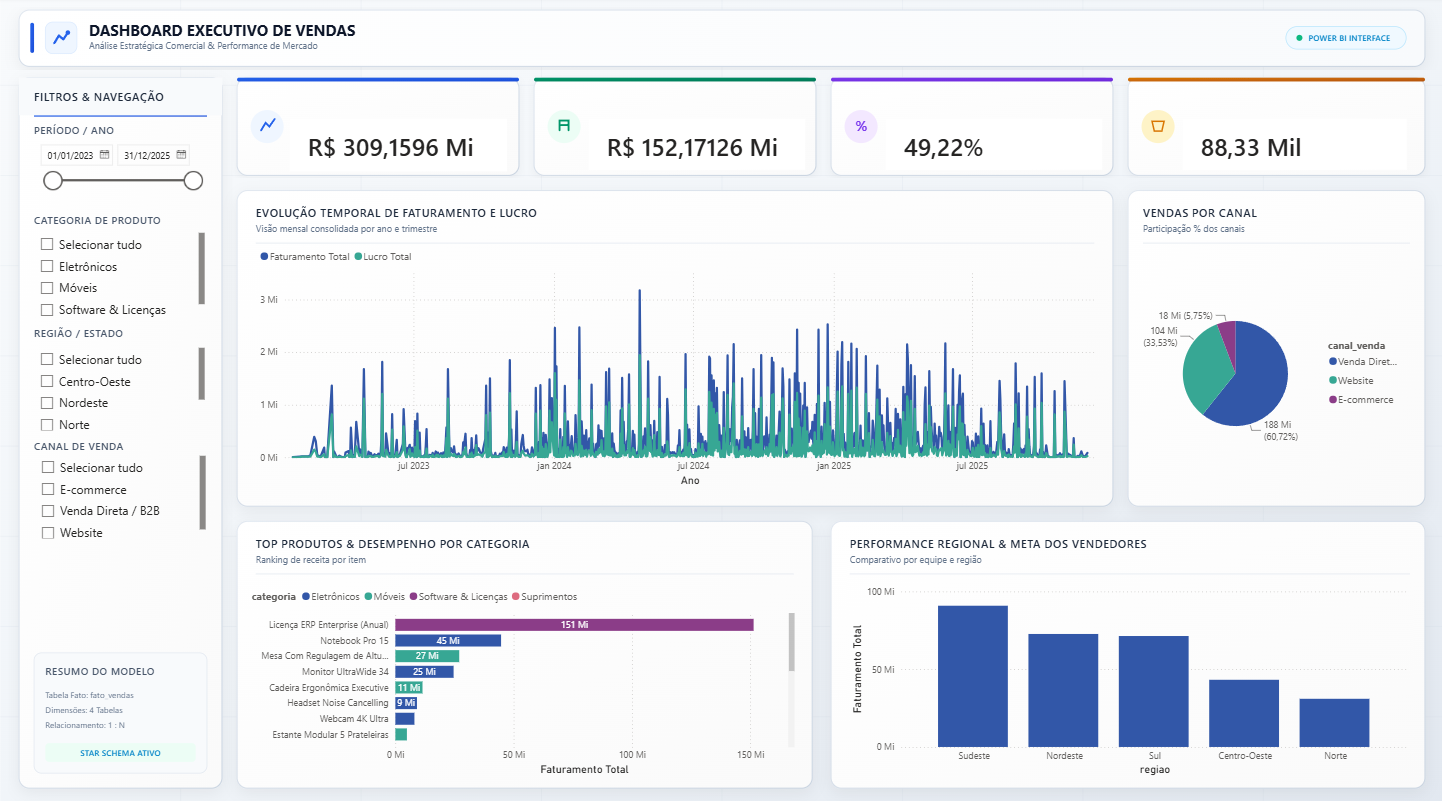

The dashboard page shown, as its layout file describes it:
{"tool":"powerbi","page":{"name":"Página 1","canvas":[1920,1080],"ordinal":0},"visuals":[{"type":"cardVisual","fields":{"Data":["MEDIDAS DAX.Faturamento Total"]},"box":[380.8,157.5,299.2,80],"z":0},{"type":"cardVisual","fields":{"Data":["MEDIDAS DAX.Lucro Total"]},"box":[777.5,157.5,298.8,78.8],"z":1000},{"type":"cardVisual","fields":{"Data":["MEDIDAS DAX.Margem %"]},"box":[1173.8,157.5,298.8,78.8],"z":2000},{"type":"cardVisual","fields":{"Data":["MEDIDAS DAX.Ticket Médio"]},"box":[1568.8,157.5,308.8,78.8],"z":3000},{"type":"lineChart","fields":{"Category":["dim_calendario.data.Variation.Hierarquia de datas.Ano","dim_calendario.data.Variation.Hierarquia de datas.Trimestre","dim_calendario.data.Variation.Hierarquia de datas.Mês","dim_calendario.data.Variation.Hierarquia de datas.Dia"],"Y":["MEDIDAS DAX.Faturamento Total","MEDIDAS DAX.Lucro Total"]},"box":[340.5,324.5,1131.9,331.2],"z":4000},{"type":"pieChart","fields":{"Y":["MEDIDAS DAX.Faturamento Total"],"Category":["fato_vendas.canal_venda"]},"box":[1515,335,362.5,331.2],"z":5000},{"type":"barChart","fields":{"Y":["MEDIDAS DAX.Faturamento Total"],"Category":["dim_produtos.nome_produto"],"Series":["dim_produtos.categoria"]},"box":[329.9,776.7,731.5,263.3],"z":6000},{"type":"clusteredColumnChart","fields":{"Category":["dim_clientes.regiao"],"Y":["MEDIDAS DAX.Faturamento Total"]},"box":[1126.2,776.2,751.2,263.8],"z":7000},{"type":"slicer","fields":{"Values":["dim_calendario.data"]},"box":[41.2,186.2,236.2,91.2],"z":8000},{"type":"slicer","fields":{"Values":["dim_produtos.categoria"]},"box":[41.2,308.8,236.2,127.5],"z":9000},{"type":"slicer","fields":{"Values":["dim_clientes.regiao"]},"box":[41.2,461.2,236.2,120],"z":10000},{"type":"slicer","fields":{"Values":["fato_vendas.canal_venda"]},"box":[42.6,605.2,236.2,120],"z":11000}]}

Visuals, with their boxes in screenshot pixels (x1, y1, x2, y2), scaled from the page's 1920x1080 canvas onto the 1442x801 screenshot:
cardVisual - MEDIDAS DAX.Faturamento Total: {"left": 286, "top": 117, "right": 511, "bottom": 176}
cardVisual - MEDIDAS DAX.Lucro Total: {"left": 584, "top": 117, "right": 808, "bottom": 175}
cardVisual - MEDIDAS DAX.Margem %: {"left": 882, "top": 117, "right": 1106, "bottom": 175}
cardVisual - MEDIDAS DAX.Ticket Médio: {"left": 1178, "top": 117, "right": 1410, "bottom": 175}
lineChart - dim_calendario.data.Variation.Hierarquia de datas.Ano x dim_calendario.data.Variation.Hierarquia de datas.Trimestre: {"left": 256, "top": 241, "right": 1106, "bottom": 486}
pieChart - MEDIDAS DAX.Faturamento Total x fato_vendas.canal_venda: {"left": 1138, "top": 248, "right": 1410, "bottom": 494}
barChart - MEDIDAS DAX.Faturamento Total x dim_produtos.nome_produto: {"left": 248, "top": 576, "right": 797, "bottom": 771}
clusteredColumnChart - dim_clientes.regiao x MEDIDAS DAX.Faturamento Total: {"left": 846, "top": 576, "right": 1410, "bottom": 771}
slicer - dim_calendario.data: {"left": 31, "top": 138, "right": 208, "bottom": 206}
slicer - dim_produtos.categoria: {"left": 31, "top": 229, "right": 208, "bottom": 324}
slicer - dim_clientes.regiao: {"left": 31, "top": 342, "right": 208, "bottom": 431}
slicer - fato_vendas.canal_venda: {"left": 32, "top": 449, "right": 209, "bottom": 538}
